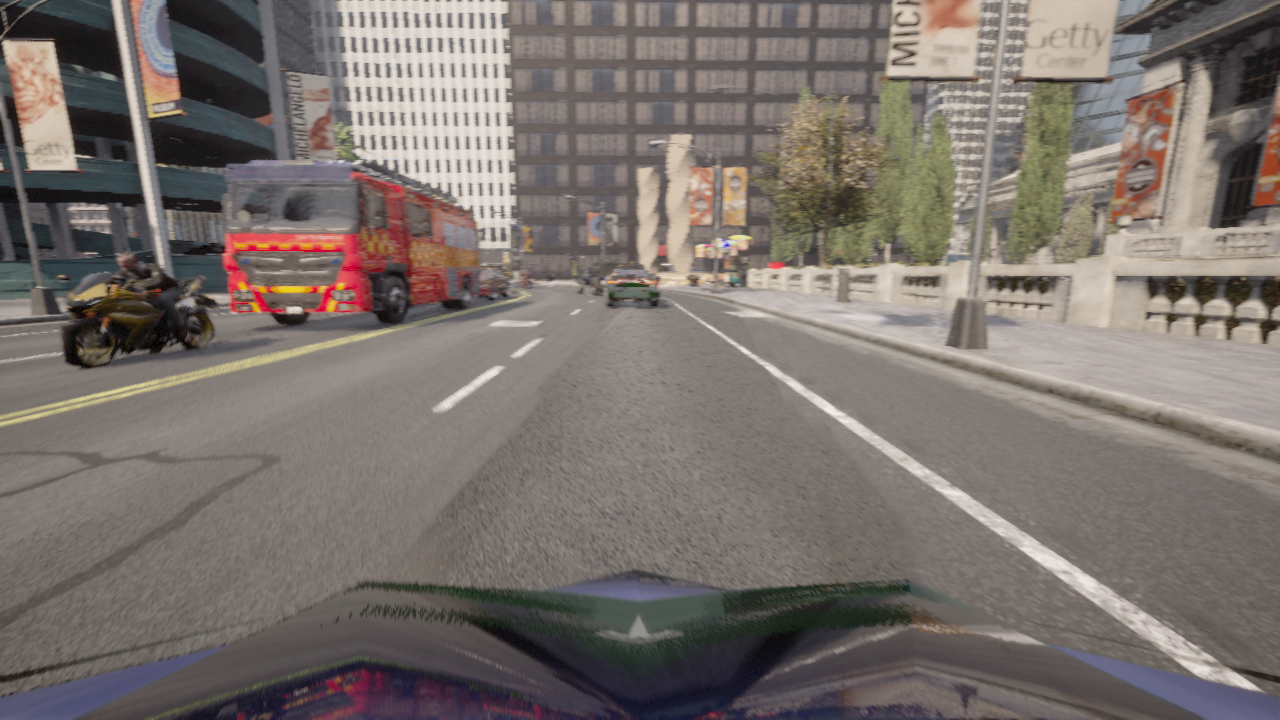cyclist: (0, 569, 1279, 719), (223, 160, 481, 324), (55, 272, 218, 368), (605, 264, 659, 306), (575, 260, 622, 295), (473, 268, 509, 300), (519, 274, 533, 288), (499, 269, 508, 276)
